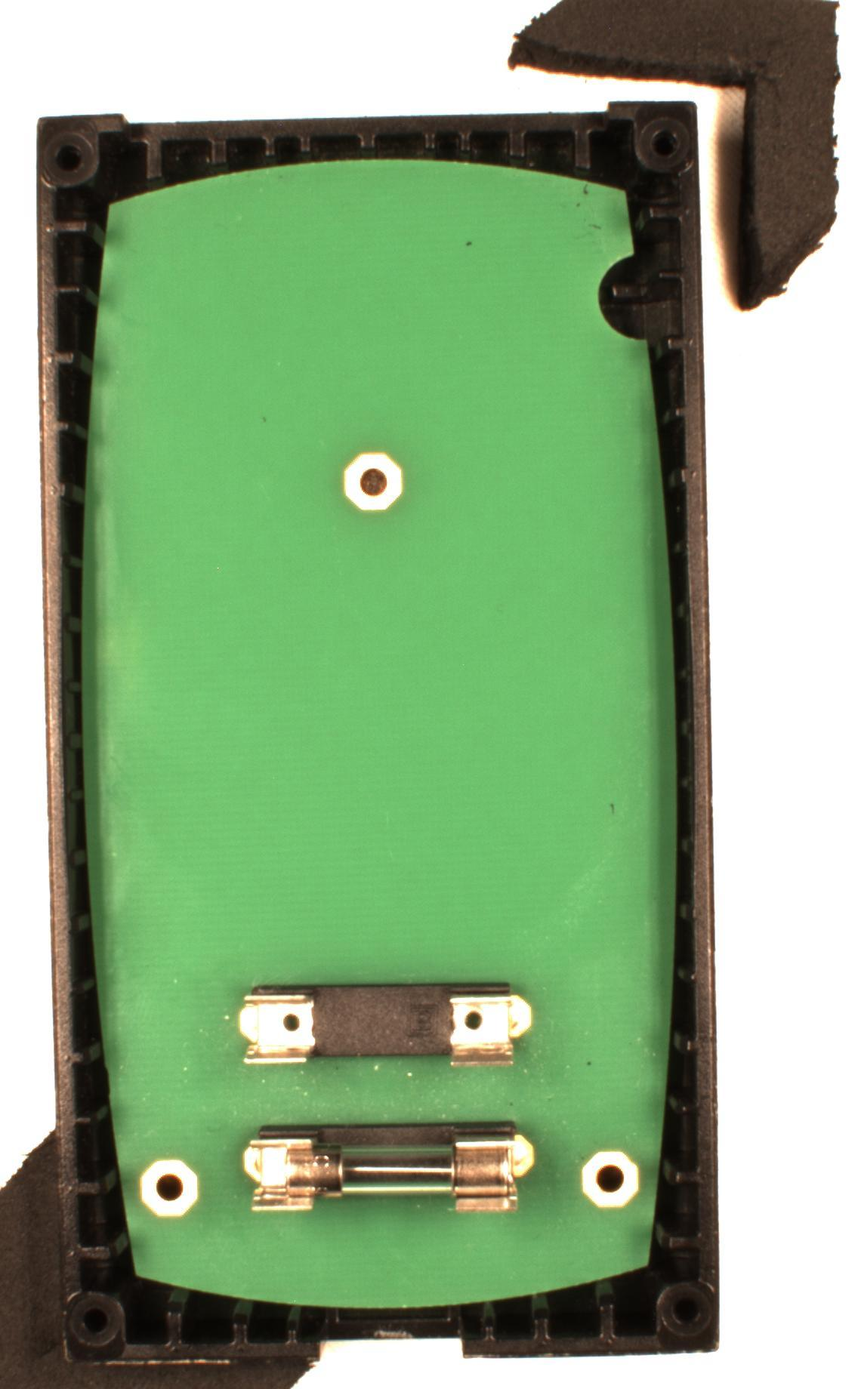Nepostojanje osiguraca: (237, 979, 537, 1070)
